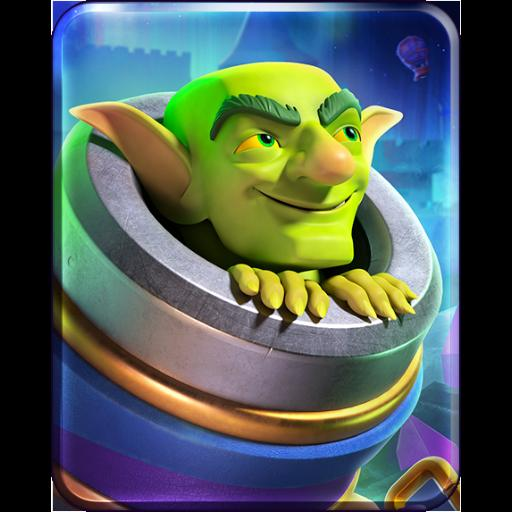mortar-evo: (64, 13, 450, 501)
